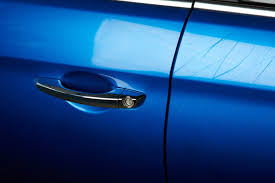scratch: (169, 34, 270, 81)
